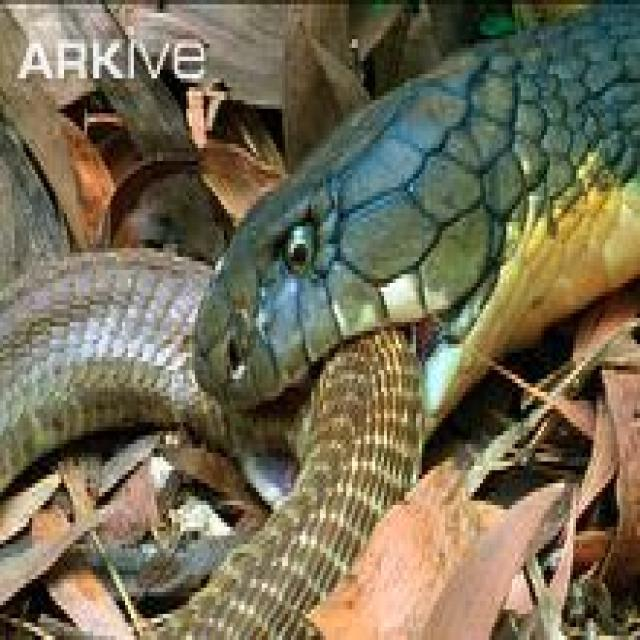Snake: (0, 0, 637, 631)
